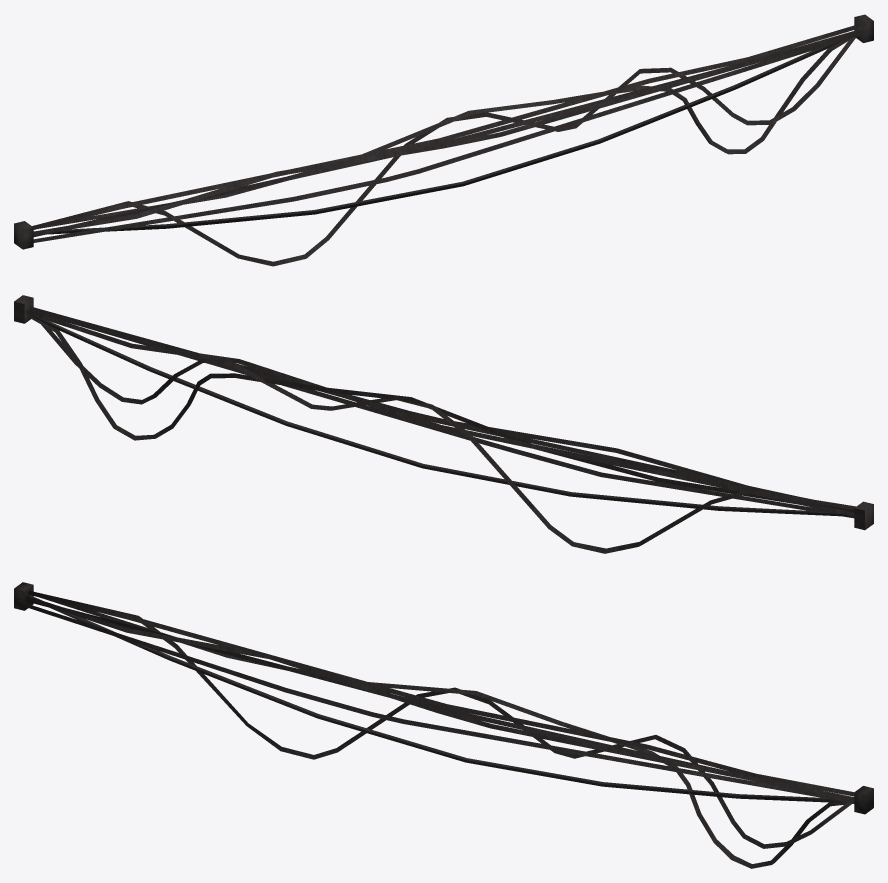
File: Wire0.FBX
3 renders of one model, top to bottom at view 1: azimuth 30°, elevation 25°; view 2: azimuth 150°, elevation 25°; view 3: azimuth 330°, elevation 25°, orthographic.
Parts seen in each view (by area): view 1: HangingWires_1A; view 2: HangingWires_1A; view 3: HangingWires_1A.
Part boxes in pixels (<box>): HangingWires_1A: <box>14,14,873,266</box>; HangingWires_1A: <box>14,295,873,553</box>; HangingWires_1A: <box>14,582,873,868</box>.
Size of the model in its own units: 1020 by 126 by 36.5.
